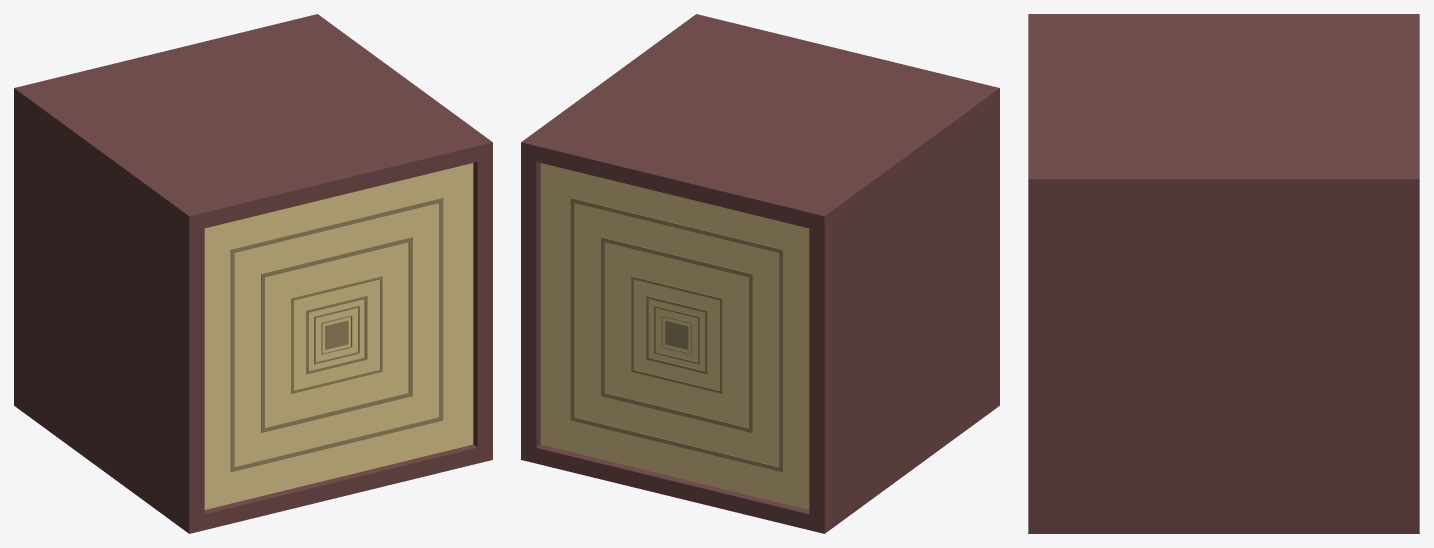
File: log(nomal).fbx
The picture shows the model from 3 angles, left to right: view 1: azimuth 30°, elevation 25°; view 2: azimuth 150°, elevation 25°; view 3: azimuth 270°, elevation 25°; orthographic projection. The views are drawn at different scales.
Parts seen in each view (by area): view 1: 큐브_2_7, 큐브, 큐브_1_7, 큐브_1_8, 큐브_1_6, 큐브_1_5, 큐브_1_4, 큐브_1; view 2: 큐브_2_7, 큐브, 큐브_1_7, 큐브_1_8, 큐브_1_6, 큐브_1_5, 큐브_1_4, 큐브_1; view 3: 큐브_2_7.
Boxes of the visible parts, left/top/right/bottom form: 큐브_2_7: left=14, top=14, right=492, bottom=533; 큐브: left=204, top=163, right=473, bottom=509; 큐브_1_7: left=230, top=198, right=443, bottom=472; 큐브_1_8: left=204, top=162, right=477, bottom=514; 큐브_1_6: left=261, top=237, right=412, bottom=432; 큐브_1_5: left=291, top=276, right=382, bottom=393; 큐브_1_4: left=306, top=296, right=367, bottom=374; 큐브_1: left=325, top=320, right=348, bottom=349; 큐브_2_7: left=521, top=14, right=999, bottom=533; 큐브: left=540, top=163, right=809, bottom=509; 큐브_1_7: left=570, top=198, right=783, bottom=472; 큐브_1_8: left=536, top=162, right=809, bottom=514; 큐브_1_6: left=601, top=237, right=752, bottom=432; 큐브_1_5: left=631, top=276, right=722, bottom=393; 큐브_1_4: left=646, top=296, right=707, bottom=374; 큐브_1: left=665, top=320, right=688, bottom=349; 큐브_2_7: left=1028, top=14, right=1419, bottom=533.
Bounding box in the file's own units: 200 × 200 × 200.
